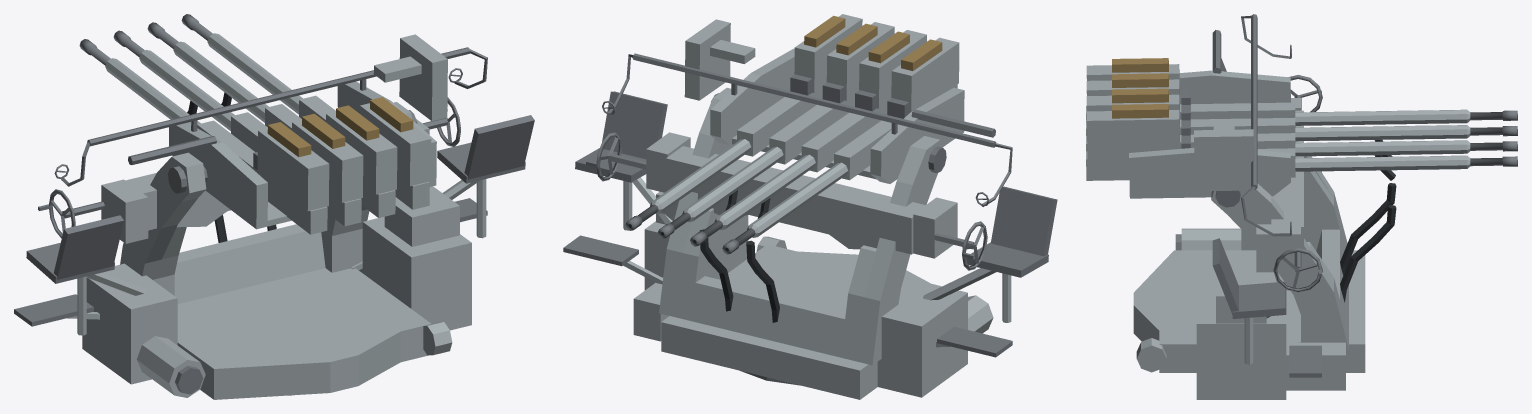
3 views of the same model, side by side, from view 1: azimuth 30°, elevation 25°; view 2: azimuth 150°, elevation 25°; view 3: azimuth 270°, elevation 25° (orthographic). The views are drawn at different scales.
Parts seen in each view (by area): view 1: component.yaw.mesh, component.left-outer.elevation.mesh, component.left.elevation.mesh, component.right-outer.elevation.mesh, component.right.elevation.mesh, component.left.recoil.mesh, component.right.recoil.mesh, component.right-outer.recoil.mesh, component.left-outer.recoil.mesh; view 2: component.yaw.mesh, component.left-outer.elevation.mesh, component.right-outer.elevation.mesh, component.left.elevation.mesh, component.right.elevation.mesh, component.left.recoil.mesh, component.right.recoil.mesh, component.left-outer.recoil.mesh, component.right-outer.recoil.mesh; view 3: component.yaw.mesh, component.left-outer.elevation.mesh, component.right-outer.elevation.mesh, component.right.recoil.mesh, component.left.recoil.mesh, component.left.elevation.mesh, component.left-outer.recoil.mesh, component.right-outer.recoil.mesh, component.right.elevation.mesh.
Boxes of the visible parts, x1,y1,x2,y2 form: component.yaw.mesh: [14, 97, 534, 399]; component.left-outer.elevation.mesh: [54, 34, 487, 234]; component.left.elevation.mesh: [231, 112, 363, 226]; component.right-outer.elevation.mesh: [299, 95, 431, 209]; component.right.elevation.mesh: [265, 104, 397, 217]; component.left.recoil.mesh: [113, 30, 234, 130]; component.right.recoil.mesh: [147, 22, 268, 122]; component.right-outer.recoil.mesh: [181, 14, 302, 114]; component.left-outer.recoil.mesh: [79, 39, 200, 124]; component.yaw.mesh: [563, 88, 1057, 399]; component.left-outer.elevation.mesh: [602, 19, 1012, 206]; component.right-outer.elevation.mesh: [732, 14, 862, 156]; component.left.elevation.mesh: [801, 30, 926, 172]; component.right.elevation.mesh: [769, 22, 894, 164]; component.left.recoil.mesh: [690, 154, 815, 246]; component.right.recoil.mesh: [657, 147, 783, 238]; component.left-outer.recoil.mesh: [722, 162, 847, 254]; component.right-outer.recoil.mesh: [625, 139, 750, 230]; component.yaw.mesh: [1133, 58, 1396, 399]; component.left-outer.elevation.mesh: [1086, 14, 1295, 236]; component.right-outer.elevation.mesh: [1086, 104, 1295, 180]; component.right.recoil.mesh: [1295, 140, 1517, 180]; component.left.recoil.mesh: [1295, 125, 1517, 156]; component.left.elevation.mesh: [1086, 73, 1295, 142]; component.left-outer.recoil.mesh: [1295, 109, 1517, 125]; component.right-outer.recoil.mesh: [1295, 155, 1517, 171]; component.right.elevation.mesh: [1086, 88, 1295, 157].
Size of the model in its own units: 3.34 by 1.95 by 2.89.
